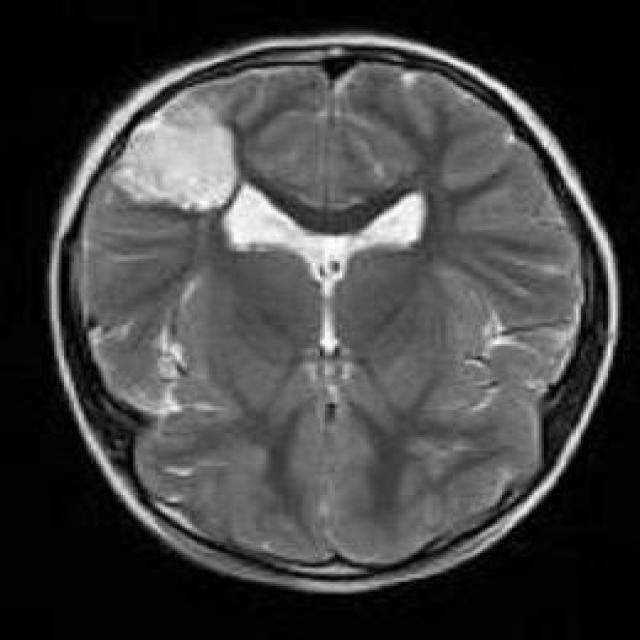Tumor-Cell: (114, 105, 245, 212)
